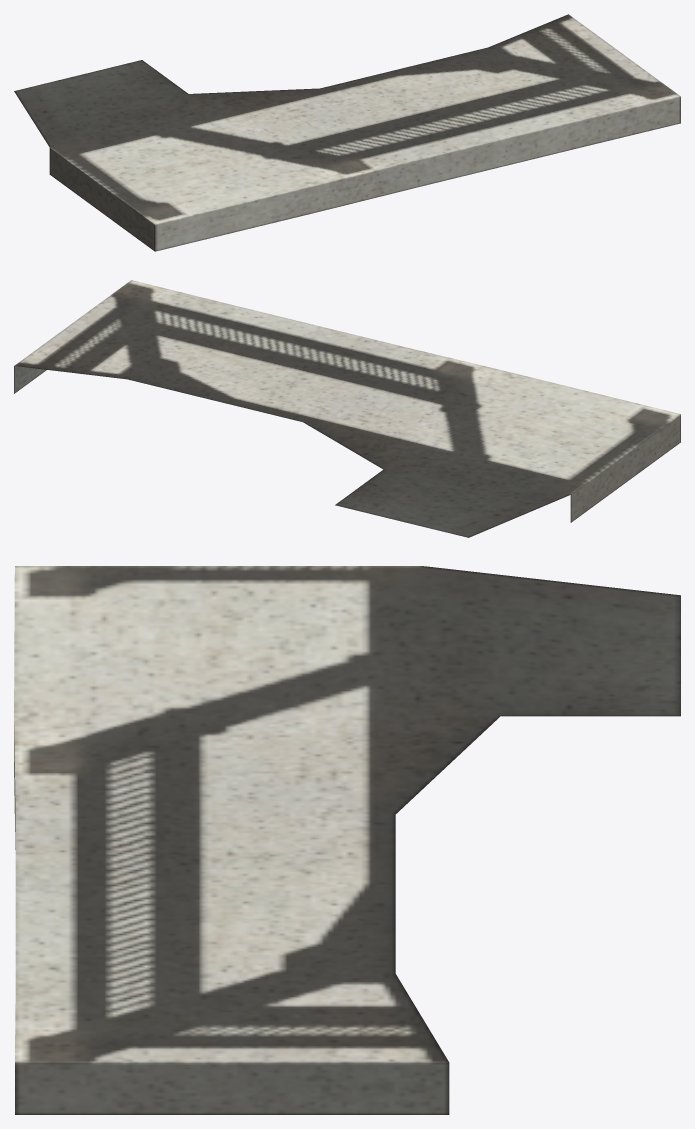
The model's file is porchConcrete.obj.
3 views of the same model, one above another, from view 1: azimuth 30°, elevation 25°; view 2: azimuth 150°, elevation 25°; view 3: azimuth 270°, elevation 25° (orthographic). The views are drawn at different scales.
Parts seen in each view (by area): view 1: porchConcrete1; view 2: porchConcrete1; view 3: porchConcrete1.
Boxes of the visible parts, x1,y1,x2,y2 form: porchConcrete1: (14, 14, 680, 251); porchConcrete1: (14, 280, 680, 537); porchConcrete1: (14, 566, 680, 1114).
Size of the model in its own units: 5.77 by 0.2831 by 3.27.
1 material, 1 textured.
